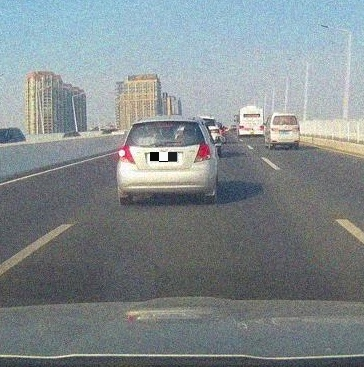L_light: (118, 144, 136, 164), (271, 128, 278, 131), (239, 126, 244, 129)
R_light: (194, 142, 211, 163), (292, 127, 299, 131), (259, 126, 264, 129)
T_light: (159, 122, 174, 125), (249, 108, 254, 110), (282, 116, 287, 118)
day-left: (116, 116, 217, 204)
day-no: (270, 113, 300, 149), (239, 106, 264, 139)
plate_1: (150, 152, 178, 162)
